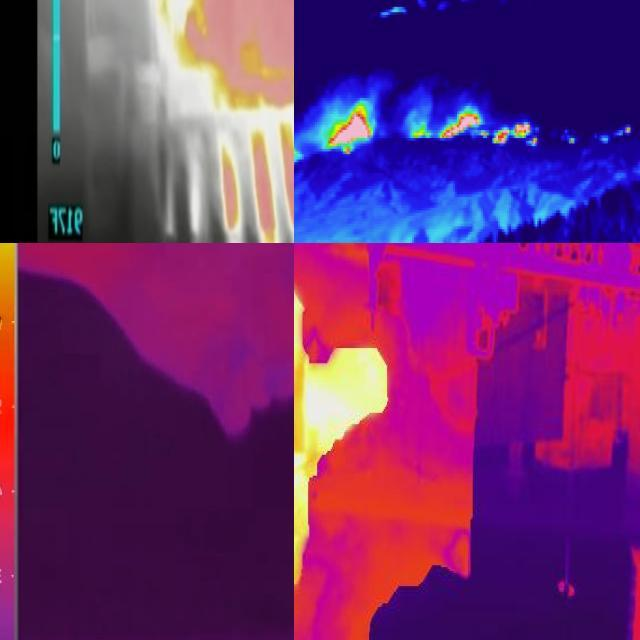fire: (295, 244, 412, 611), (78, 1, 295, 115), (295, 99, 534, 169)
